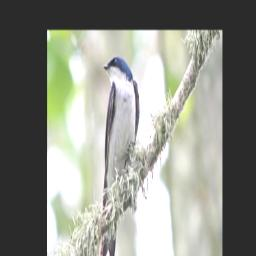Swallow: (98, 53, 140, 256)
